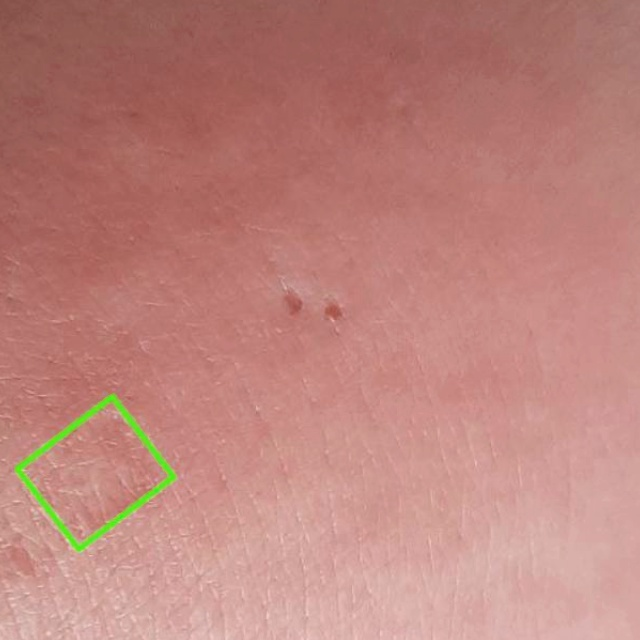Contact Dermatitis: (17, 396, 173, 548)
